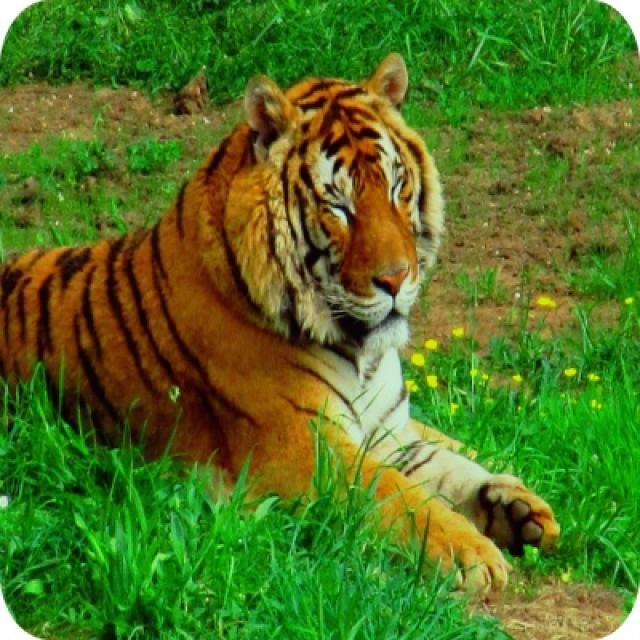Tiger: (0, 53, 558, 590)
